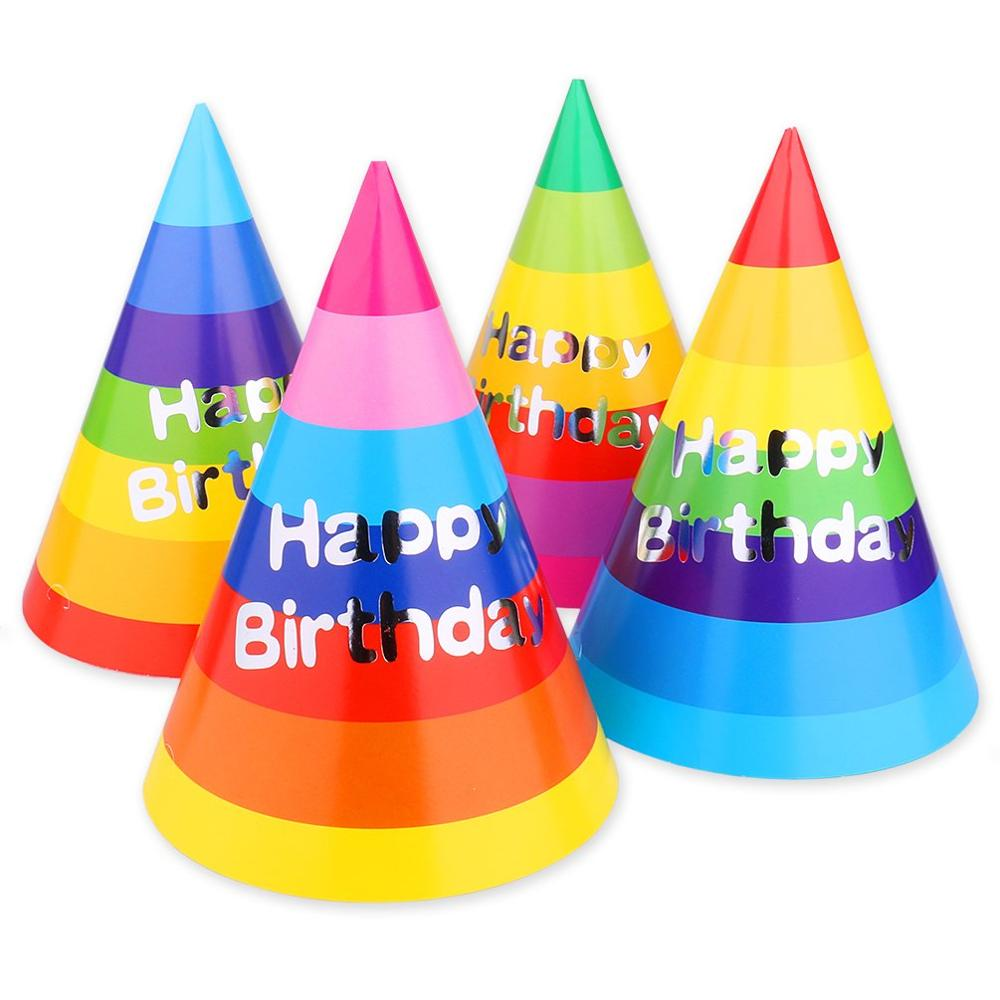cone: (144, 162, 619, 903), (568, 129, 980, 780), (24, 103, 301, 679), (466, 79, 688, 608)
